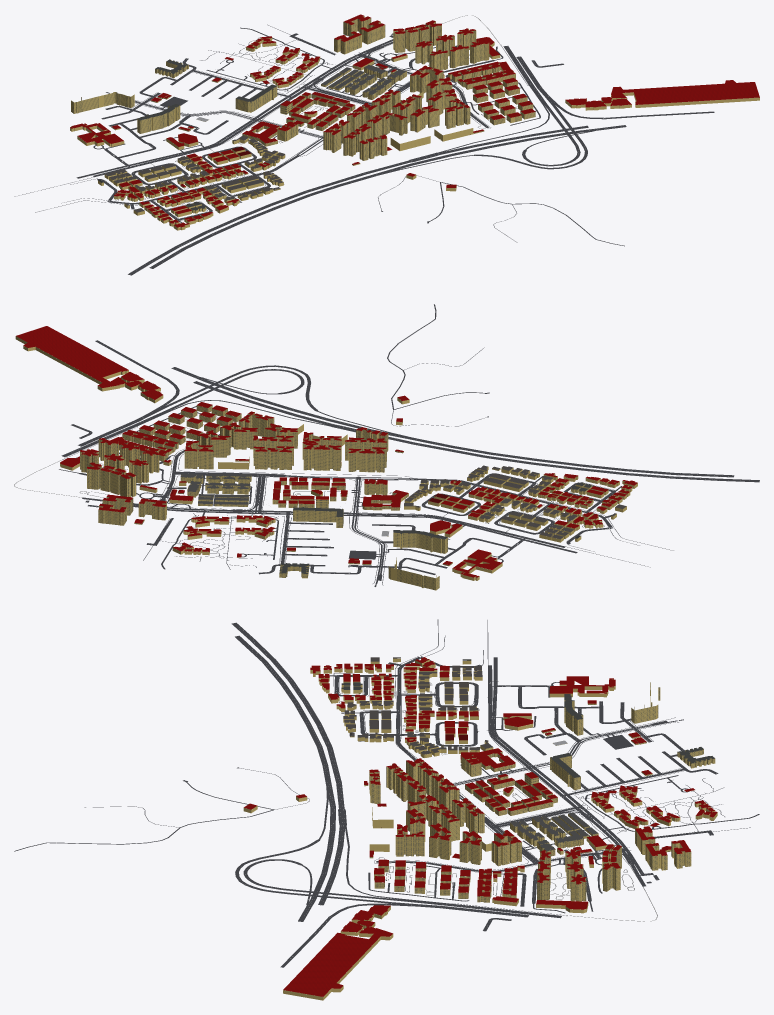
The model's file is osm3d.glb.
3 views of the same model, one above another, from view 1: azimuth 30°, elevation 25°; view 2: azimuth 150°, elevation 25°; view 3: azimuth 270°, elevation 25° (orthographic). The views are drawn at different scales.
Visible parts, largest first — view 1: Plaster002, ASPHALT, RoofingTiles010.001, Windows, RoofingTiles010, Concrete034.001, RoofingTiles010.002; view 2: Plaster002, ASPHALT, RoofingTiles010.001, Windows, RoofingTiles010, Concrete034.001, RoofingTiles010.002, Concrete034; view 3: Plaster002, ASPHALT, RoofingTiles010.001, Windows, RoofingTiles010, Concrete034.001, Concrete034, RoofingTiles010.002.
Boxes of the visible parts, x1,y1,x2,y2 form: Plaster002: [70, 16, 759, 230]; ASPHALT: [14, 24, 714, 275]; RoofingTiles010.001: [70, 14, 759, 227]; Windows: [71, 16, 535, 190]; RoofingTiles010: [105, 135, 284, 212]; Concrete034.001: [321, 65, 406, 94]; RoofingTiles010.002: [137, 59, 276, 210]; Plaster002: [15, 336, 637, 590]; ASPHALT: [59, 304, 759, 586]; RoofingTiles010.001: [16, 326, 637, 577]; Windows: [80, 405, 541, 589]; RoofingTiles010: [404, 465, 626, 539]; Concrete034.001: [180, 473, 251, 504]; RoofingTiles010.002: [279, 482, 591, 573]; Concrete034: [14, 416, 604, 531]; Plaster002: [243, 658, 717, 1000]; ASPHALT: [14, 619, 759, 967]; RoofingTiles010.001: [244, 657, 717, 996]; Windows: [350, 686, 714, 902]; RoofingTiles010: [343, 657, 492, 754]; Concrete034.001: [510, 812, 597, 850]; Concrete034: [339, 673, 657, 921]; RoofingTiles010.002: [341, 682, 714, 777].
Size of the model in its own units: 1672 by 47.54 by 1383.
Materials: 23 (23 with a texture image).
